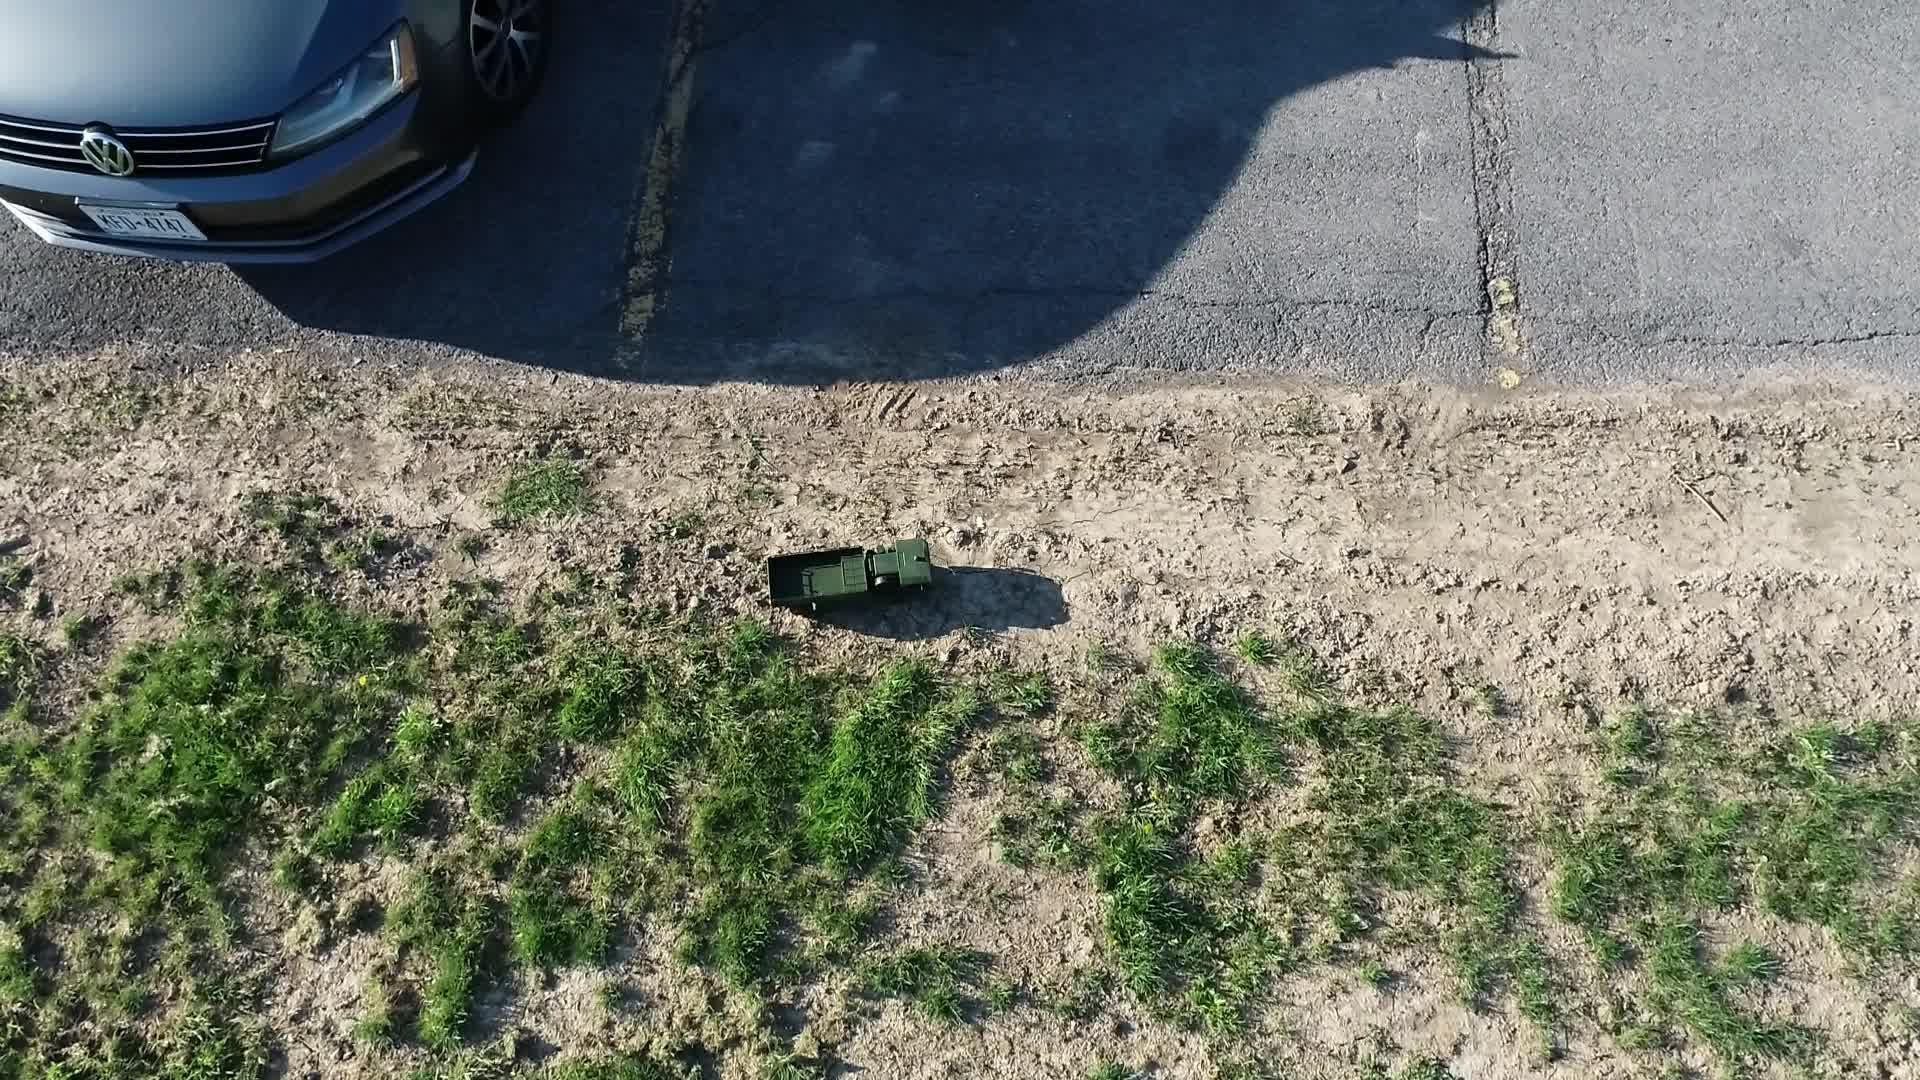transporter9: (764, 531, 942, 615)
